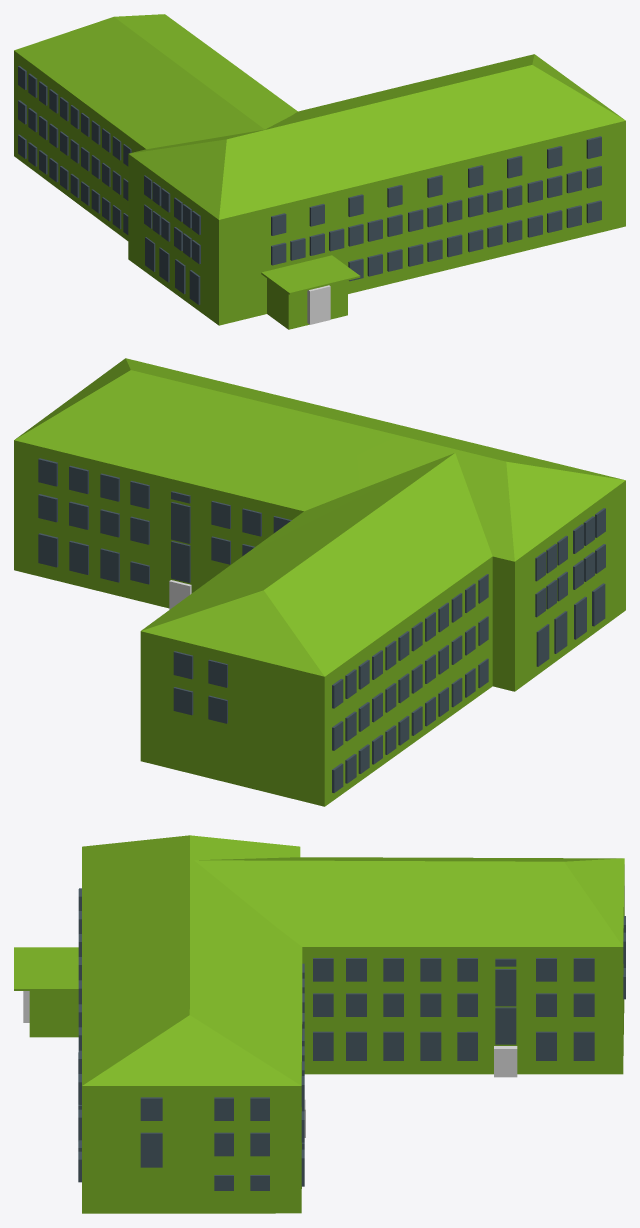
3 views of the same model, one above another, from view 1: azimuth 30°, elevation 25°; view 2: azimuth 150°, elevation 25°; view 3: azimuth 270°, elevation 25° (orthographic). The views are drawn at different scales.
Visible parts, largest first — view 1: C13, Entrance.2; view 2: C13; view 3: C13, Entrance.
Boxes of the visible parts, x1,y1,x2,y2 form: C13: (14,14,625,329); Entrance.2: (307,285,330,324); C13: (14,358,625,806); C13: (14,835,625,1213); Entrance: (494,1046,517,1077).
Size of the model in its own units: 36.56 by 11.98 by 39.14.
